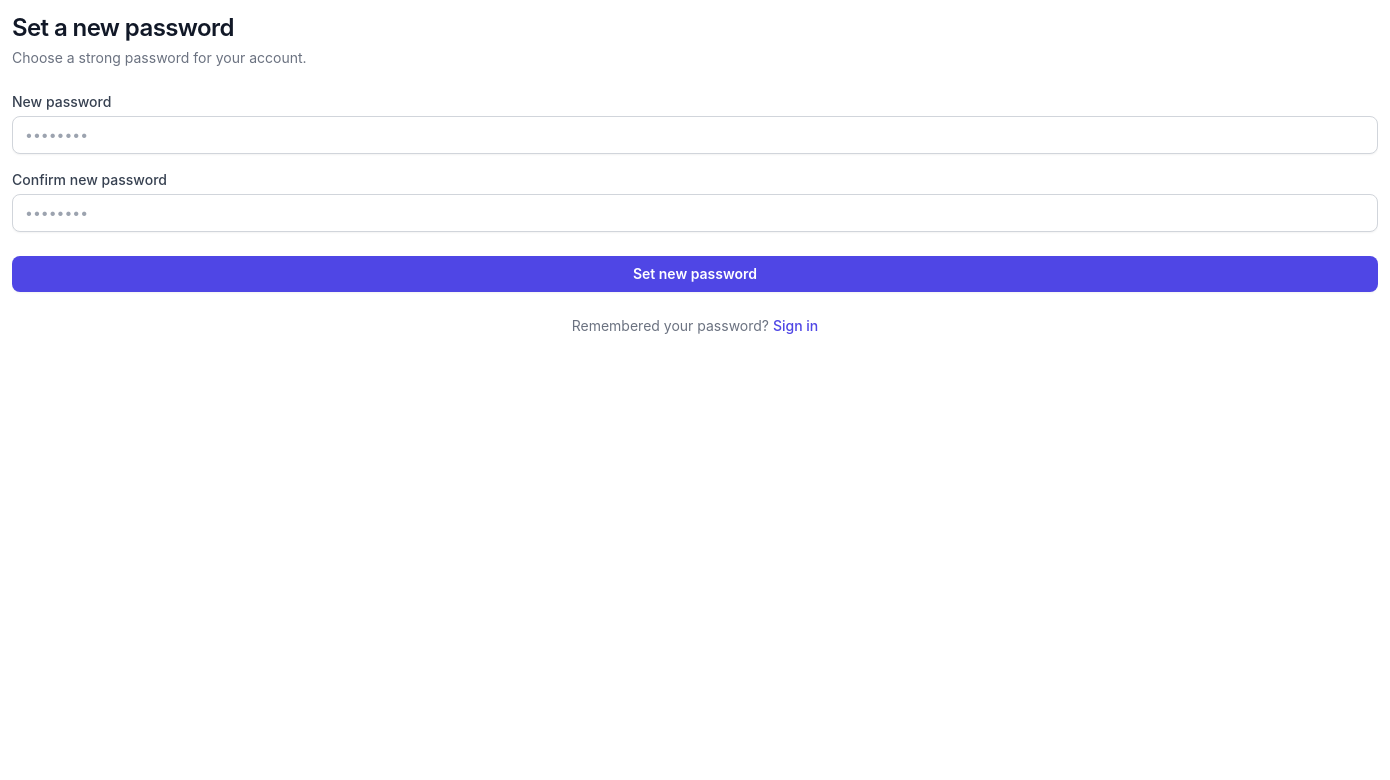
Scenario: ResetPasswordPage › shows validation error on weak password submit
This screenshot has width=1390, height=780.
Type "weak" into the password field labelled "New password" at (695, 135), box [12,116,1378,154]
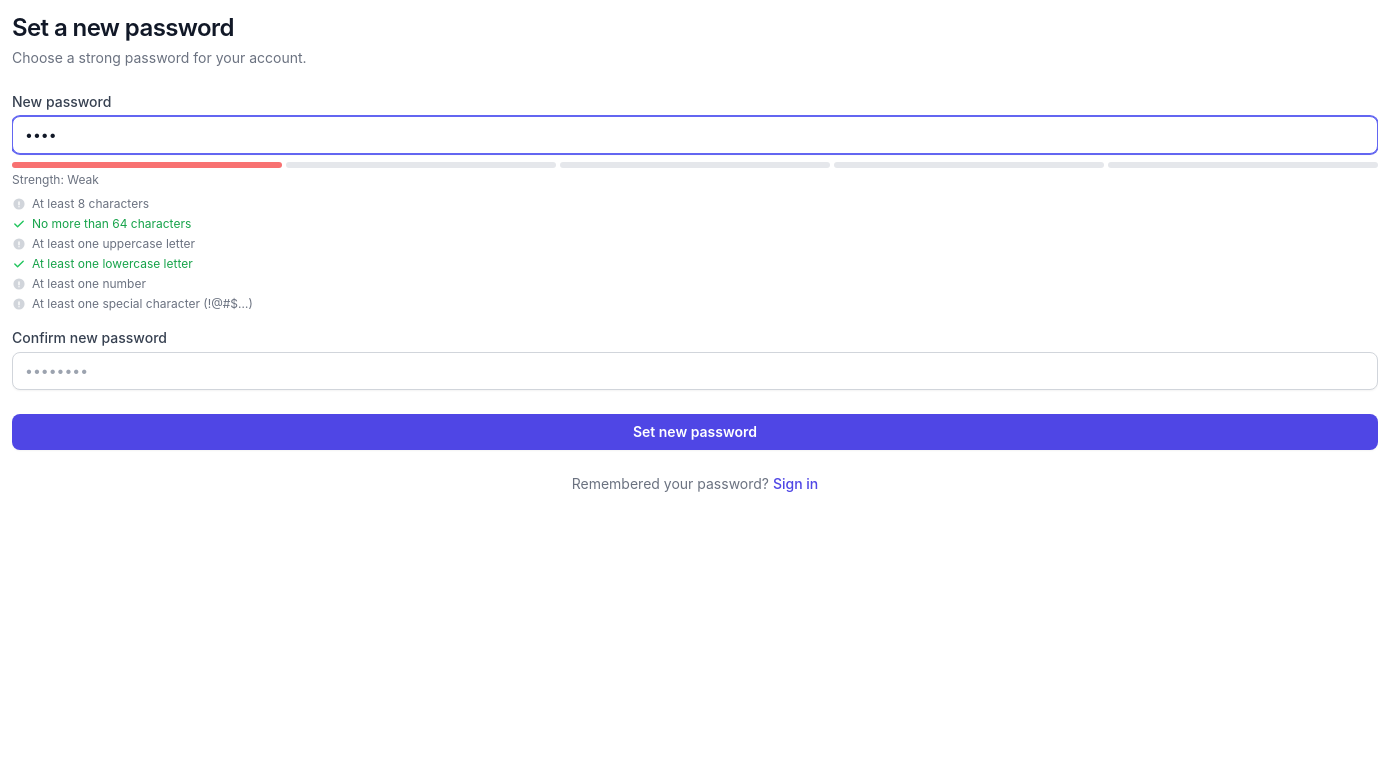
Type "weak" into the password field labelled "Confirm new password" at (695, 371), box [12,352,1378,390]
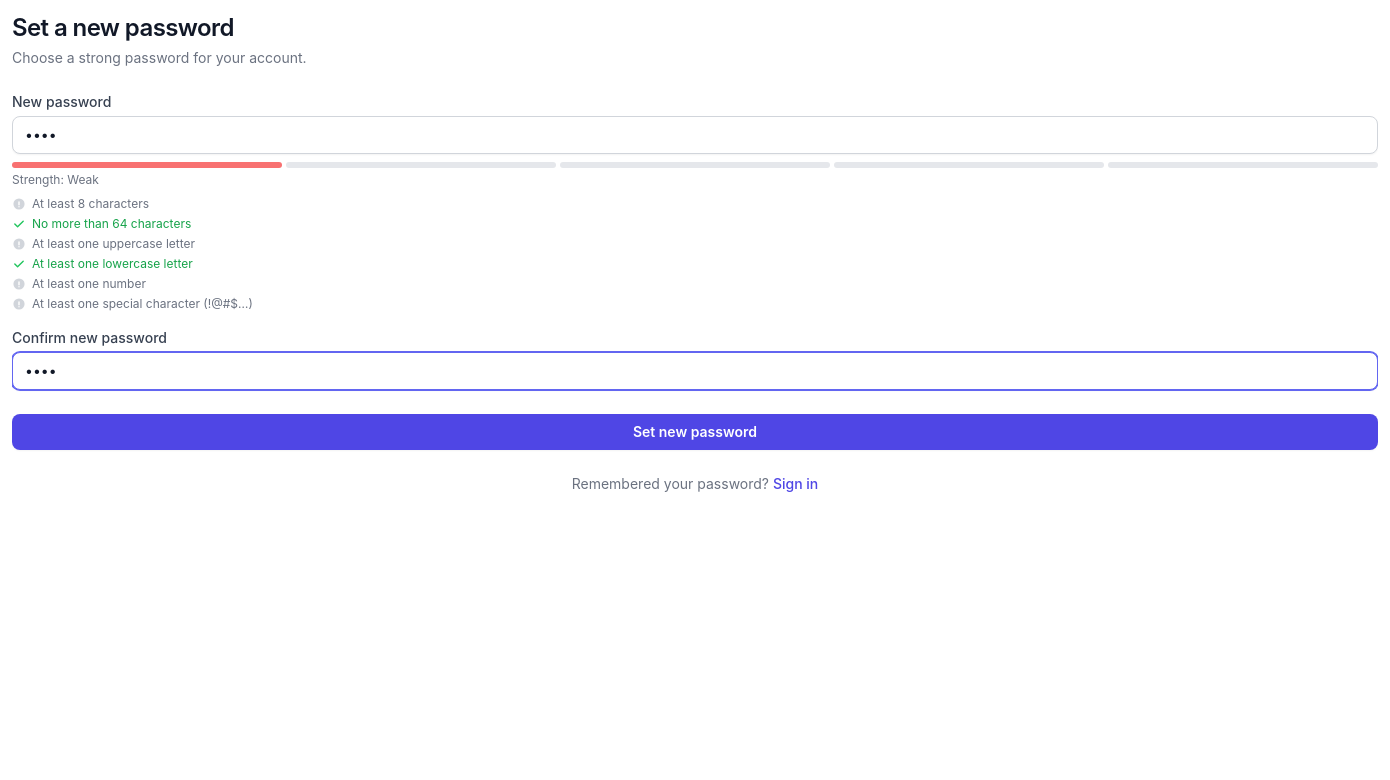
Click the button "Set new password" at (695, 432), box [12,414,1378,450]
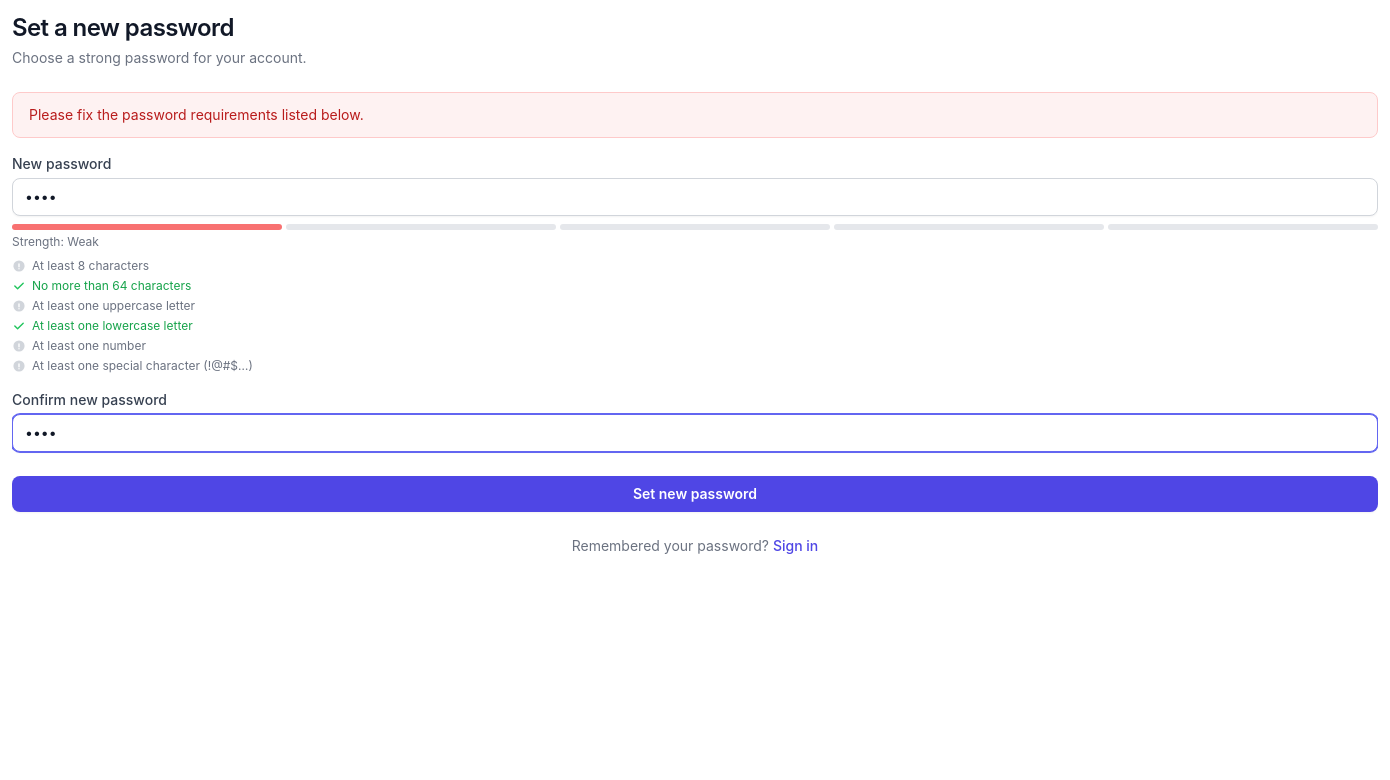
Expected: the message shows "fix the password requirements", [29,106,364,123]
